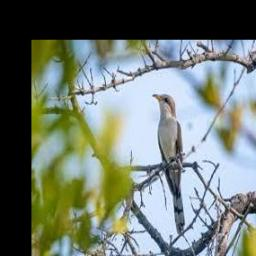Cuckoo: (152, 93, 185, 235)
